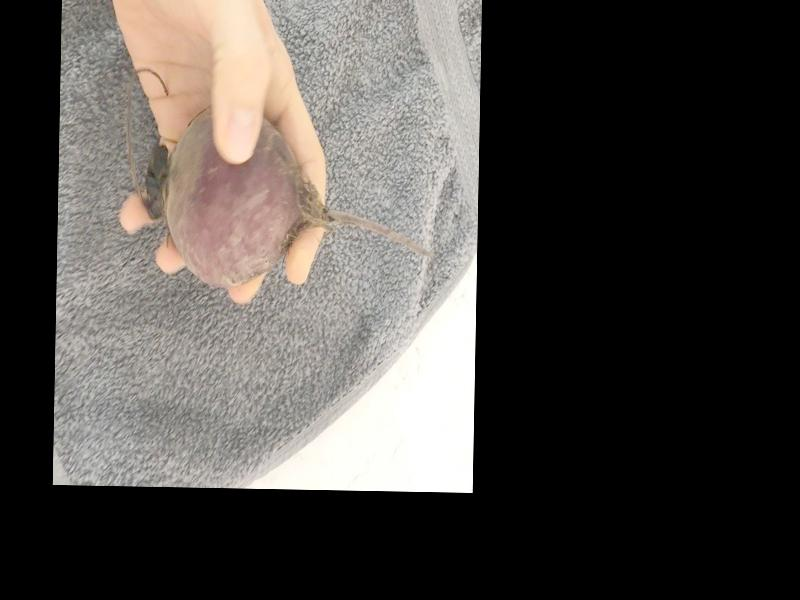Beet: (144, 104, 438, 292)
